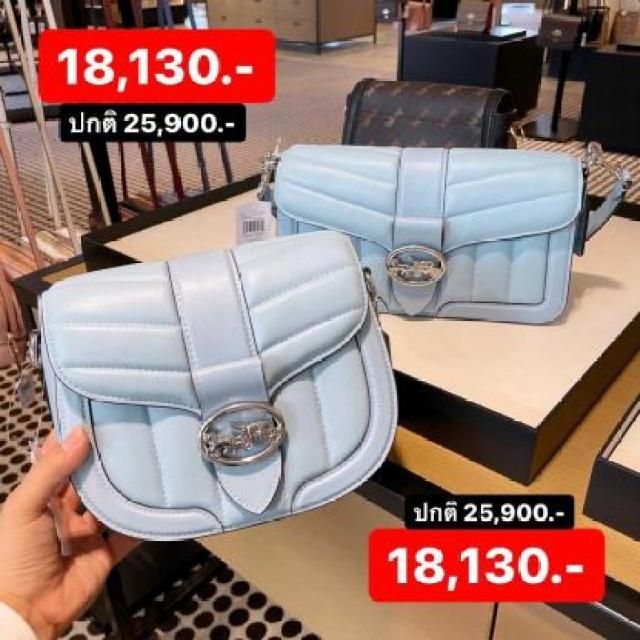Bag: (0, 227, 442, 578), (272, 114, 638, 340)
